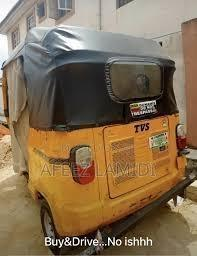keke: (11, 10, 196, 250)
